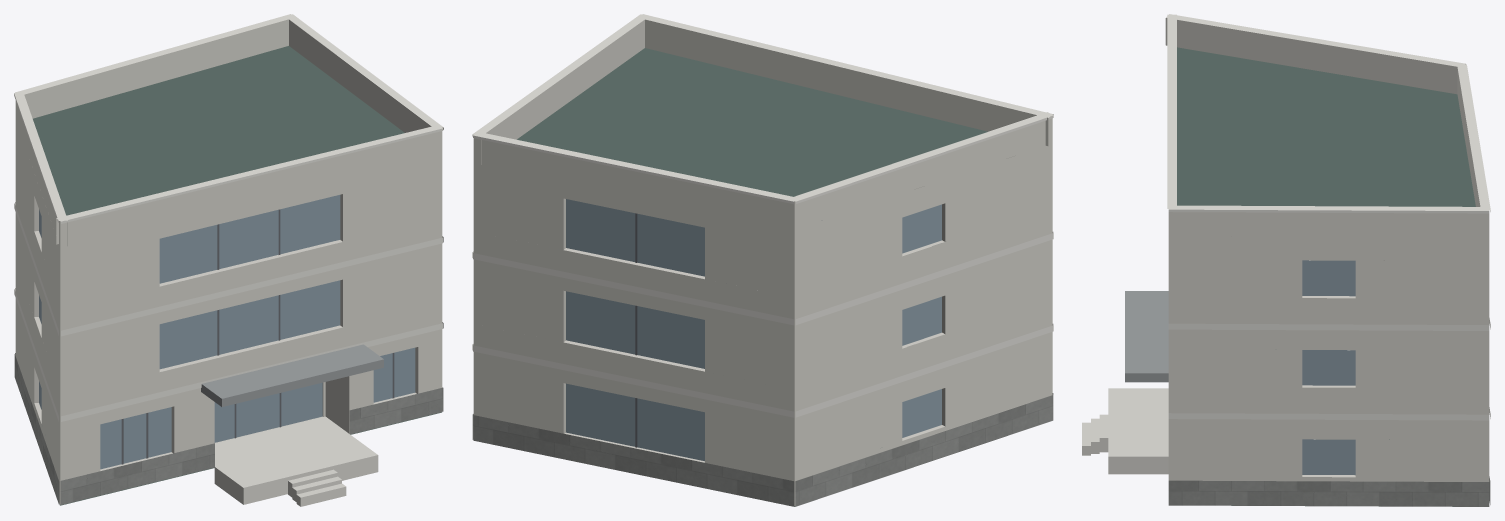
3 views of the same model, side by side, from view 1: azimuth 30°, elevation 25°; view 2: azimuth 150°, elevation 25°; view 3: azimuth 270°, elevation 25° (orthographic). The views are drawn at different scales.
Parts seen in each view (by area): view 1: b20_annex__wall, b20_annex__roof, b20_annex__glass, b20_annex__parapet, b20_annex__trim, b20_annex__entranceStair, b20_annex__base, b20_annex__canopy, b20_annex__frame; view 2: b20_annex__wall, b20_annex__roof, b20_annex__parapet, b20_annex__glass, b20_annex__trim, b20_annex__base; view 3: b20_annex__wall, b20_annex__roof, b20_annex__parapet, b20_annex__trim, b20_annex__base, b20_annex__entranceStair, b20_annex__glass, b20_annex__canopy.
Part boxes in pixels (bbox=[...]): b20_annex__wall: bbox=[15, 120, 442, 504]; b20_annex__roof: bbox=[33, 46, 441, 505]; b20_annex__glass: bbox=[39, 195, 415, 469]; b20_annex__parapet: bbox=[15, 19, 442, 247]; b20_annex__trim: bbox=[14, 14, 443, 421]; b20_annex__entranceStair: bbox=[214, 416, 378, 506]; b20_annex__base: bbox=[14, 353, 443, 505]; b20_annex__canopy: bbox=[201, 344, 383, 406]; b20_annex__frame: bbox=[121, 209, 394, 464]; b20_annex__wall: bbox=[473, 143, 1052, 506]; b20_annex__roof: bbox=[517, 48, 987, 506]; b20_annex__parapet: bbox=[473, 19, 1052, 229]; b20_annex__glass: bbox=[566, 199, 941, 461]; b20_annex__trim: bbox=[472, 14, 1053, 417]; b20_annex__base: bbox=[472, 393, 1053, 506]; b20_annex__wall: bbox=[1168, 236, 1489, 481]; b20_annex__roof: bbox=[1177, 47, 1475, 506]; b20_annex__parapet: bbox=[1165, 18, 1489, 237]; b20_annex__trim: bbox=[1166, 14, 1490, 420]; b20_annex__base: bbox=[1168, 476, 1490, 506]; b20_annex__entranceStair: bbox=[1082, 388, 1168, 474]; b20_annex__glass: bbox=[1302, 260, 1355, 475]; b20_annex__canopy: bbox=[1125, 291, 1168, 382].
Size of the model in its own units: 17 by 12.74 by 14.9.
10 materials, 1 textured.
